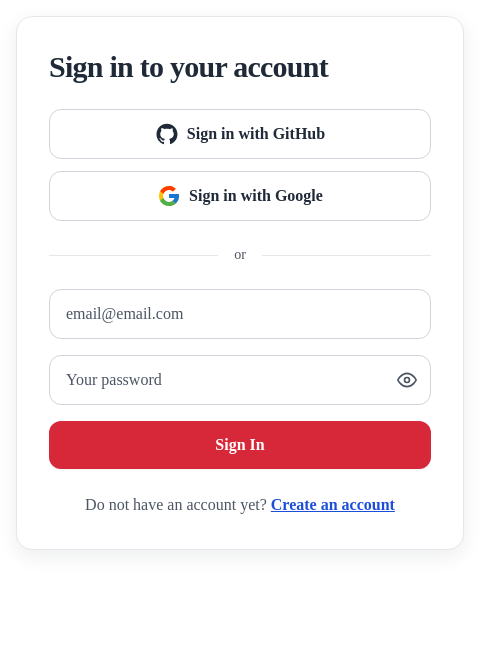
Scenario: Auth page › warns when the passwords do not match and blocks the submit
Click the button "Create an account" at coordinates (333, 505), box [271,493,395,517]
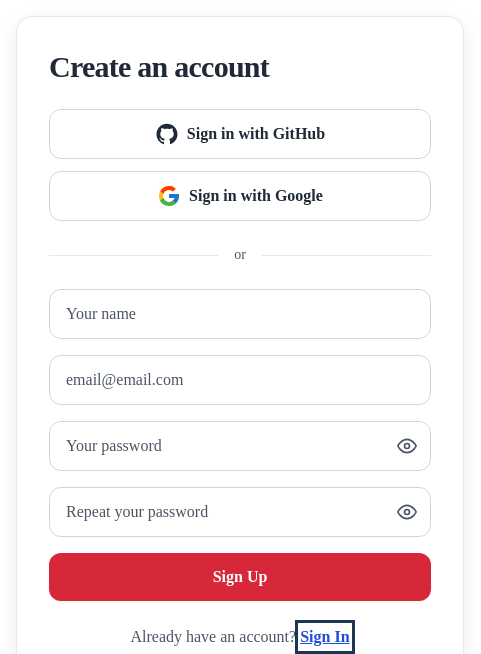
Type "Ana" into the field labelled "name" at coordinates (240, 314), box [49,289,431,339]
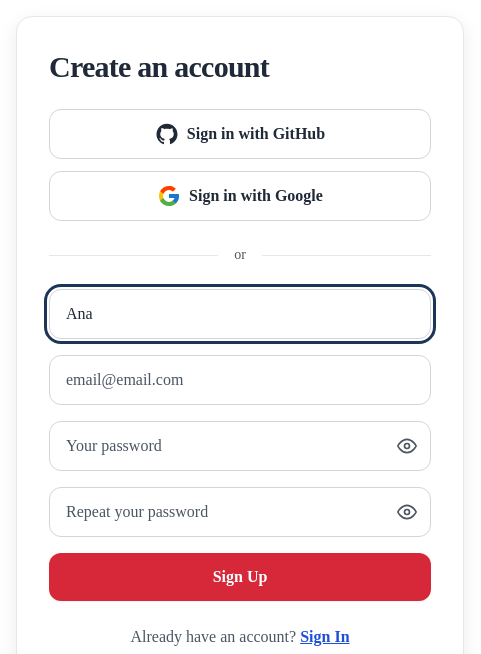
Type "ana@example.com" into the field labelled "email" at coordinates (240, 380), box [49,355,431,405]
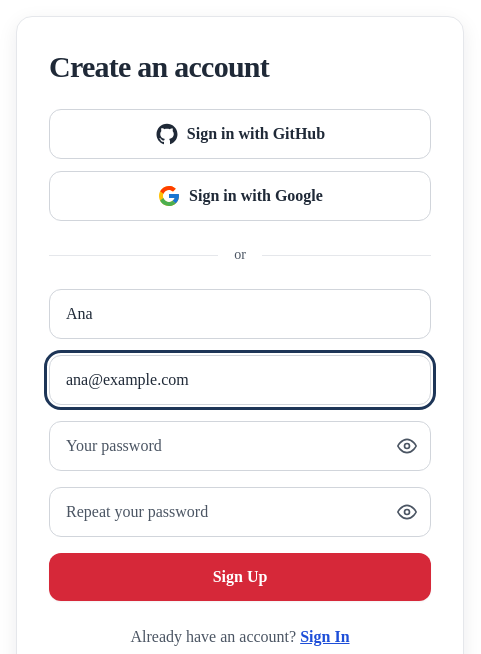
Type "secret123" into the password field named "Password (at least 8 characters)" at coordinates (240, 446), box [49,421,431,471]
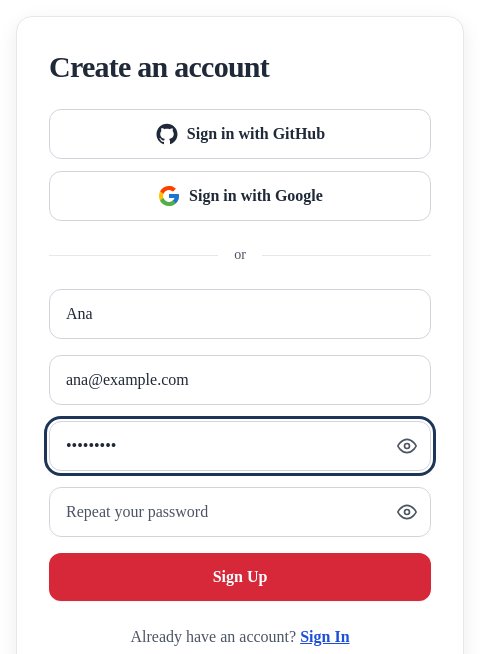
Type "secret124" into the password field named "Confirm password" at coordinates (240, 512), box [49,487,431,537]
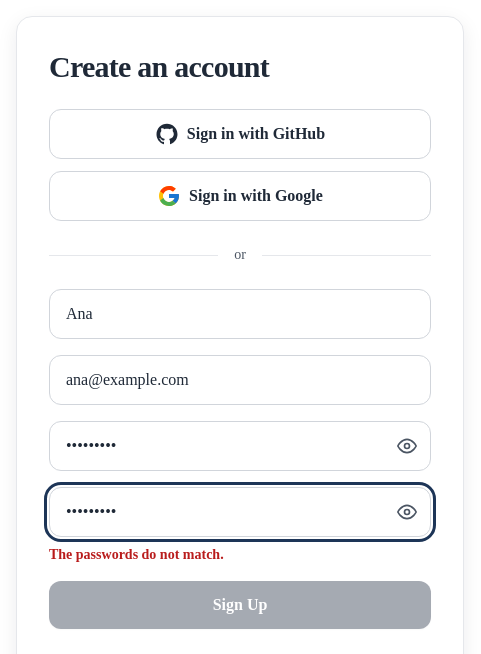
Expected: the message reads "The passwords do not match.", [49,547,224,562]
Expected: the button "Sign Up" is disabled, [49,581,431,629]
